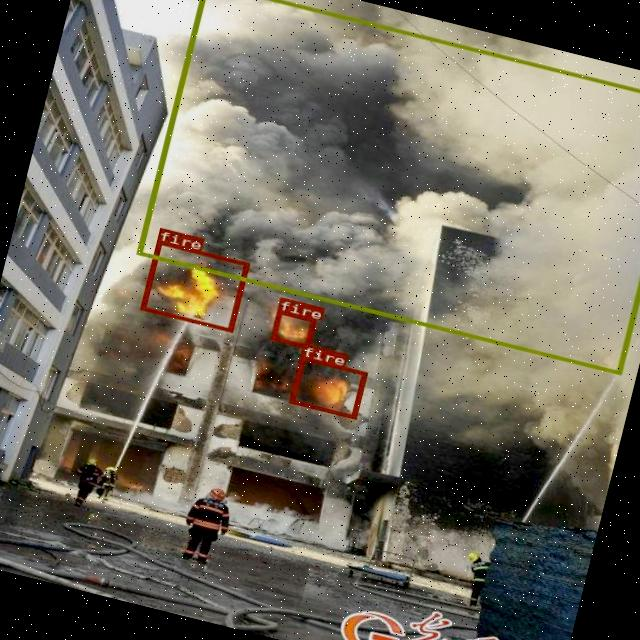fire: (138, 239, 248, 332), (288, 354, 366, 418), (268, 308, 314, 348)
smoke: (136, 0, 640, 373)
